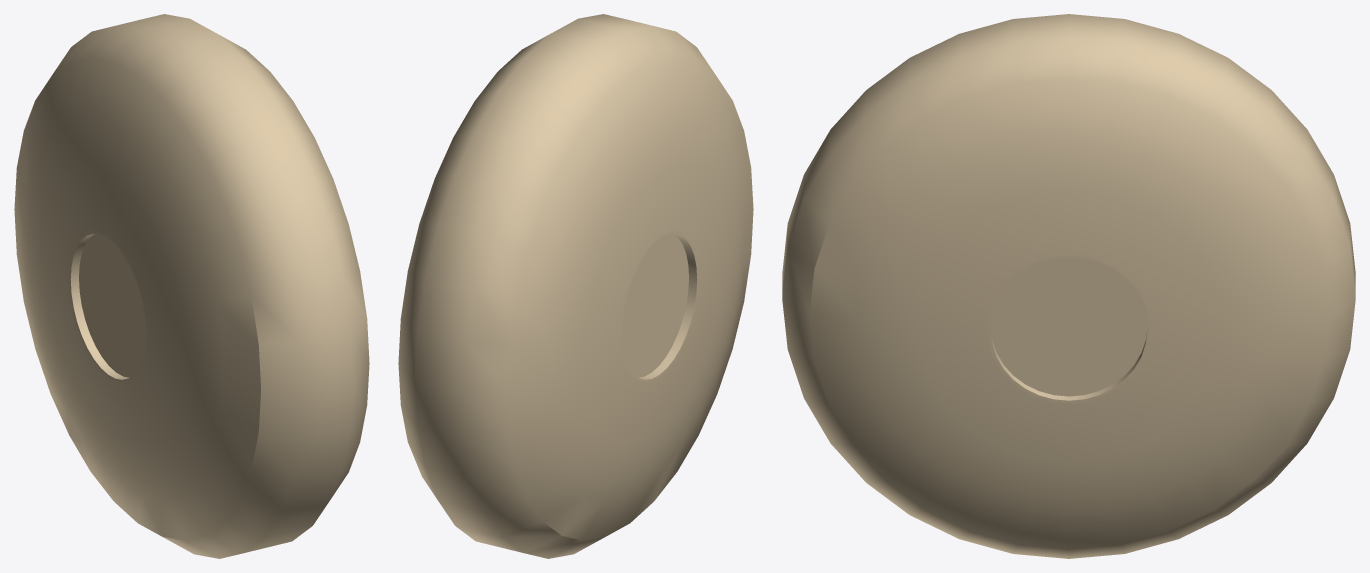
The model's file is 1camion-rueda.glb.
3 views of the same model, side by side, from view 1: azimuth 30°, elevation 25°; view 2: azimuth 150°, elevation 25°; view 3: azimuth 270°, elevation 25° (orthographic). The views are drawn at different scales.
Visible parts, largest first — view 1: tire-1.012; view 2: tire-1.012; view 3: tire-1.012.
Boxes of the visible parts, x1,y1,x2,y2 form: tire-1.012: (14,14,369,558); tire-1.012: (398,14,753,558); tire-1.012: (782,14,1355,558).
Size of the model in its own units: 0.1 by 0.2817 by 0.2817.
1 material, 1 textured.
